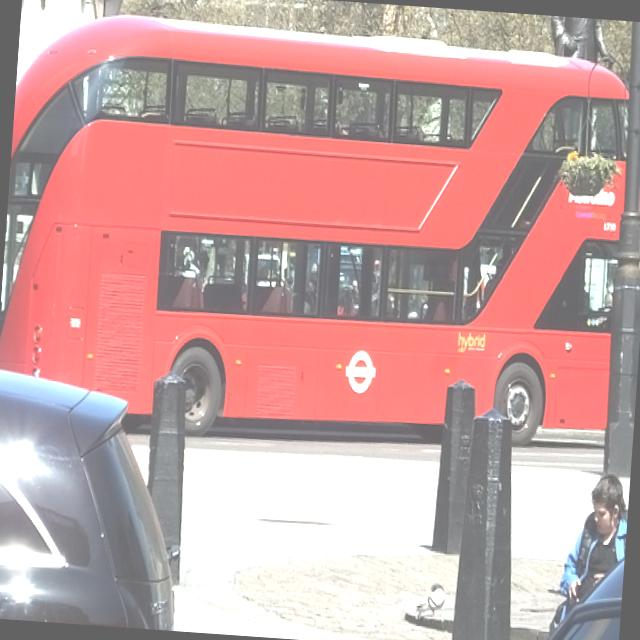Vehicle: (0, 2, 637, 469), (0, 360, 190, 630), (519, 533, 625, 640)
